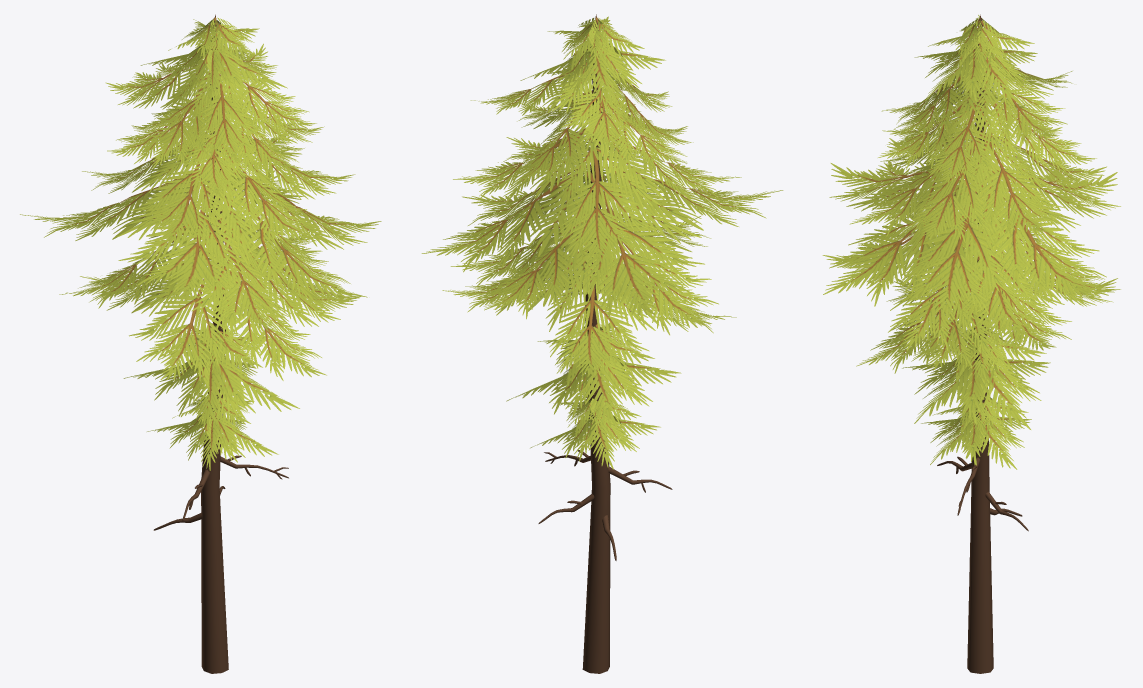
The model's file is PineTree_2.glb.
The picture shows the model from 3 angles, left to right: view 1: azimuth 30°, elevation 25°; view 2: azimuth 150°, elevation 25°; view 3: azimuth 270°, elevation 25°; orthographic projection.
Parts seen in each view (by area): view 1: PineTree_2; view 2: PineTree_2; view 3: PineTree_2.
Boxes of the visible parts, x1,y1,x2,y2 form: PineTree_2: (20,14,381,673); PineTree_2: (421,14,783,673); PineTree_2: (822,14,1120,673).
Size of the model in its own units: 3.28 by 6.91 by 2.98.
2 materials, 1 textured.
